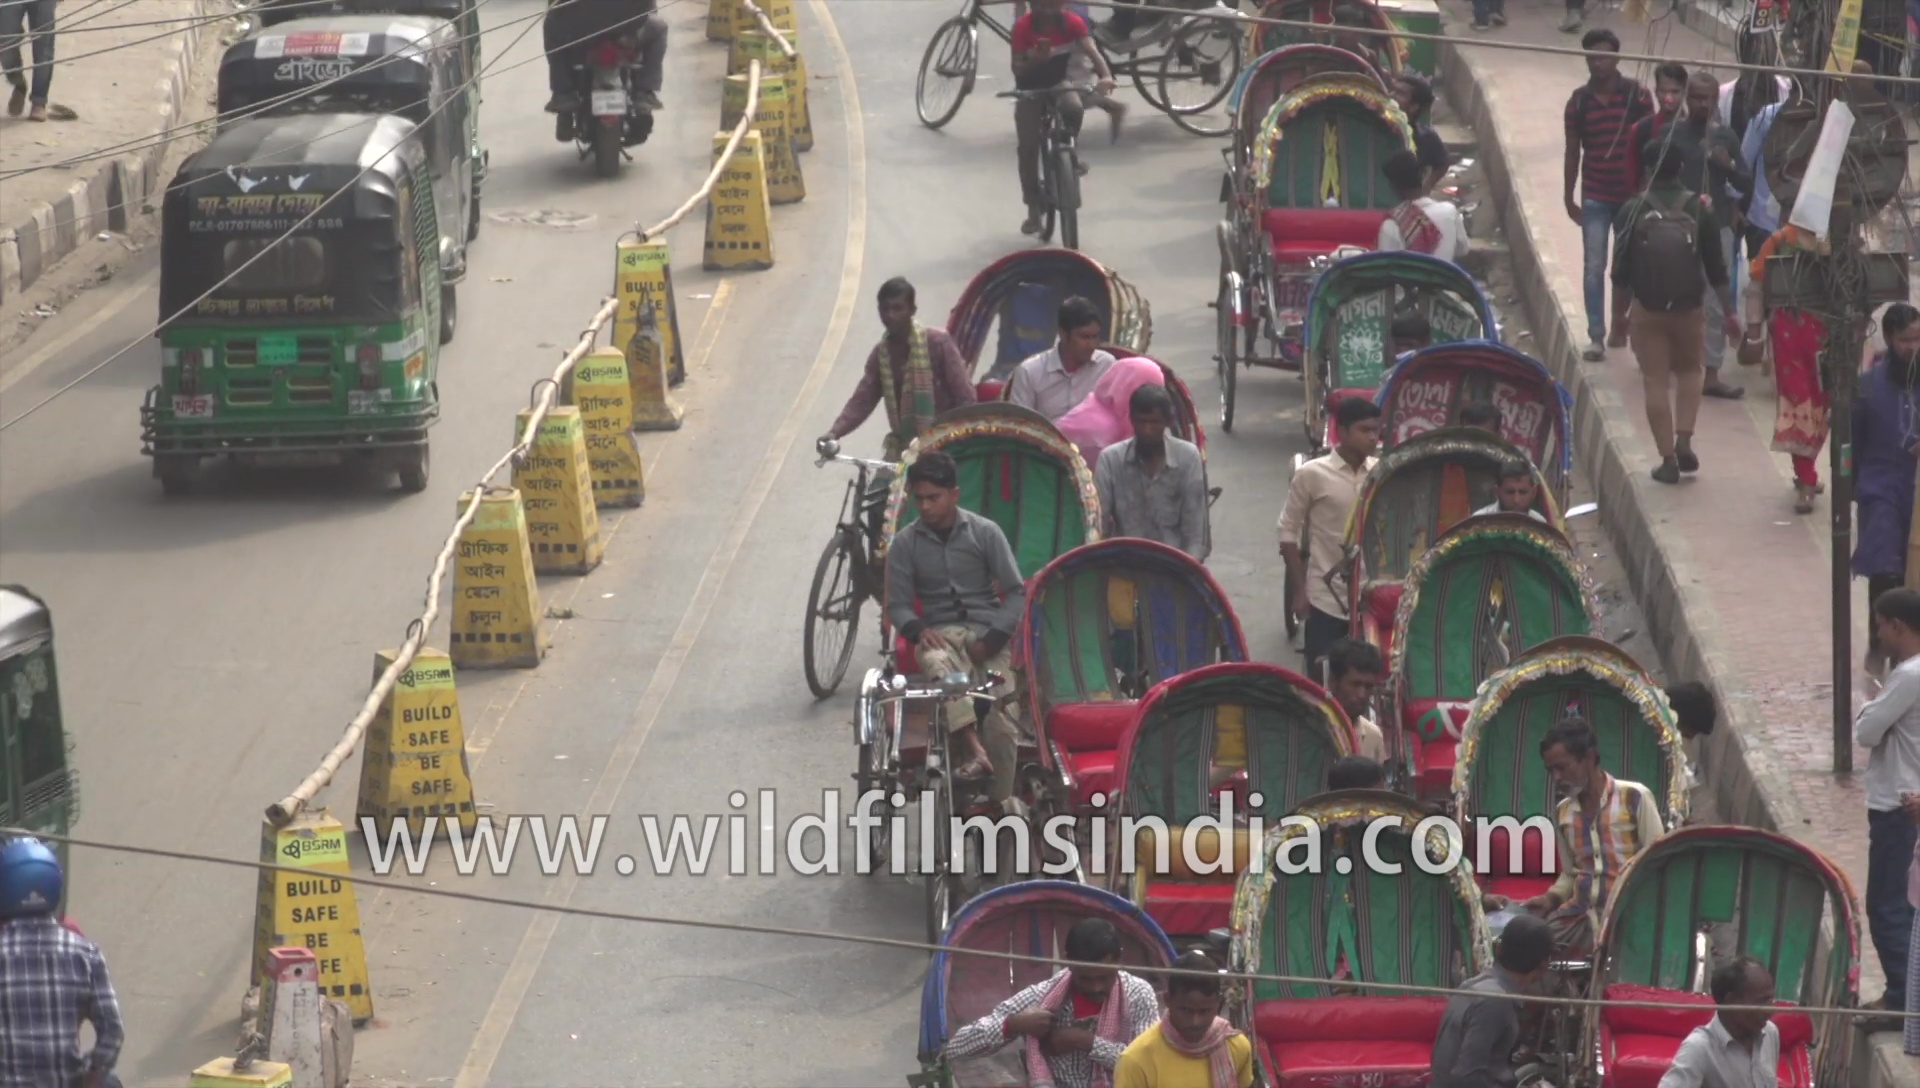5: (803, 247, 1153, 584), (872, 408, 1047, 878), (1589, 822, 1876, 1088)
bus: (146, 111, 446, 499)
